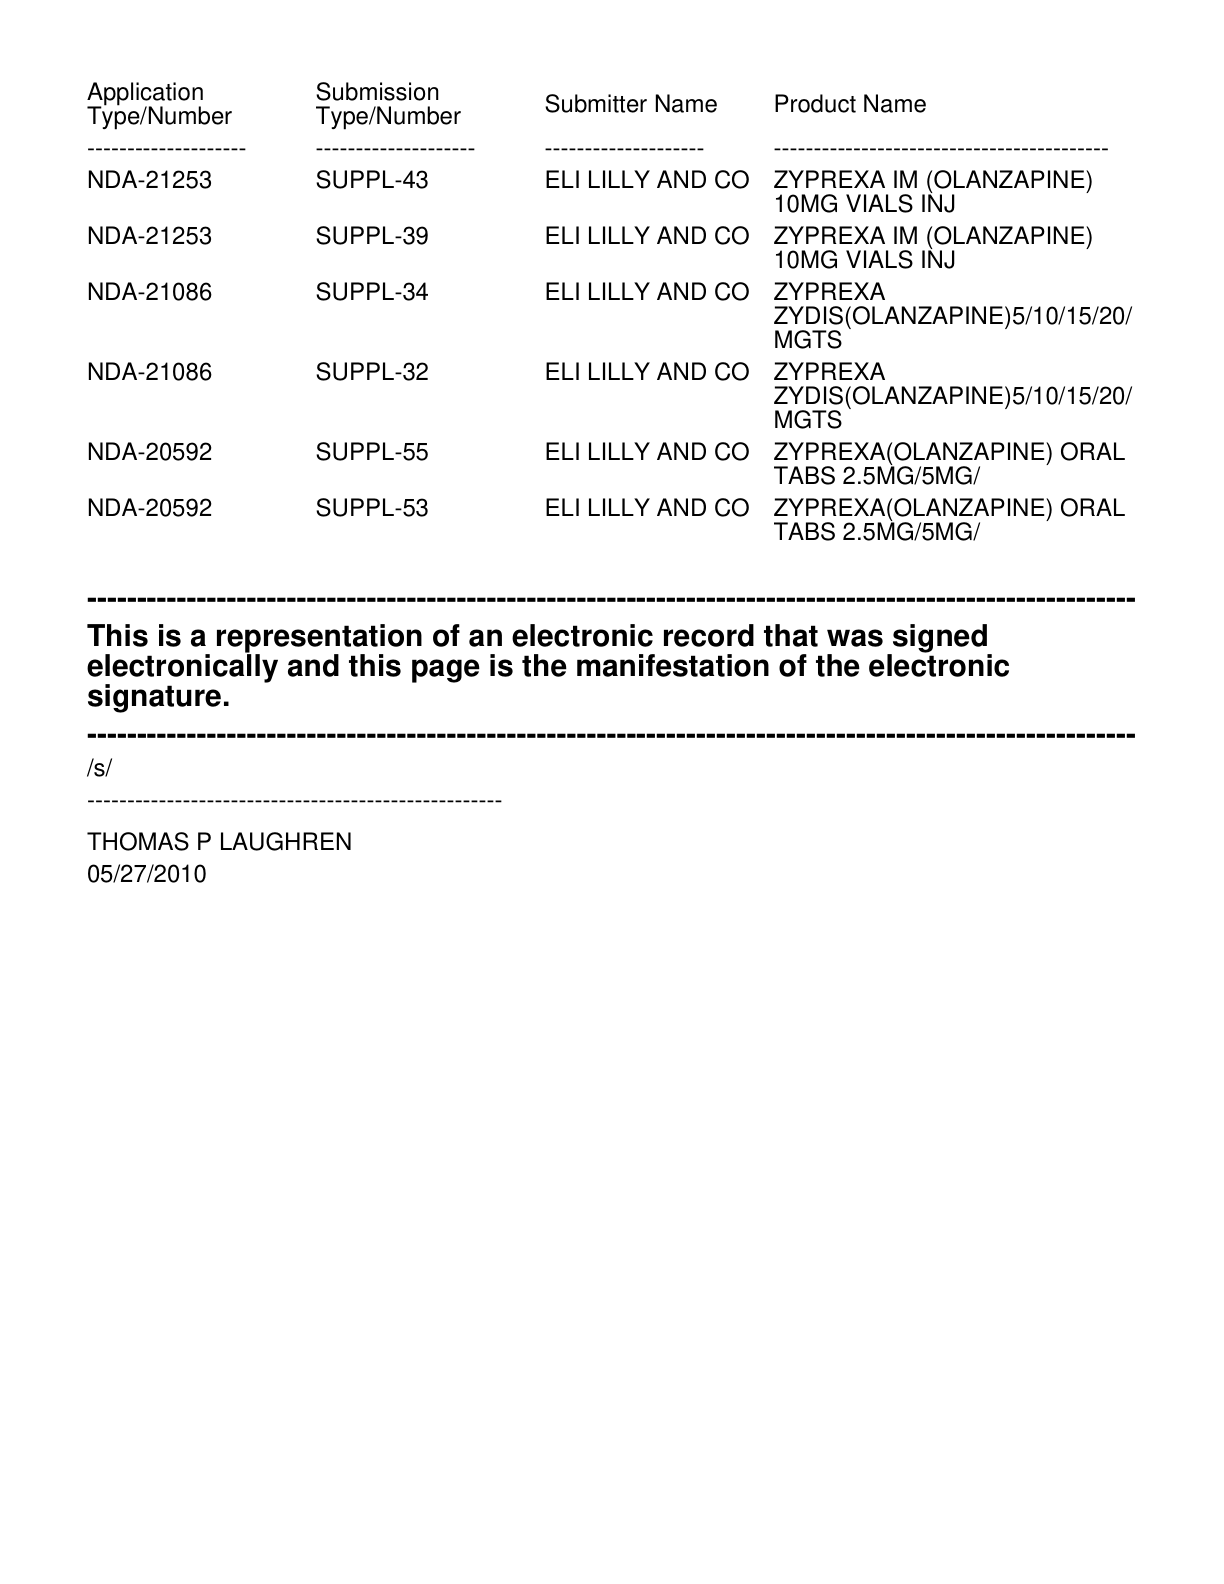nolines: (82, 77, 1131, 546)
